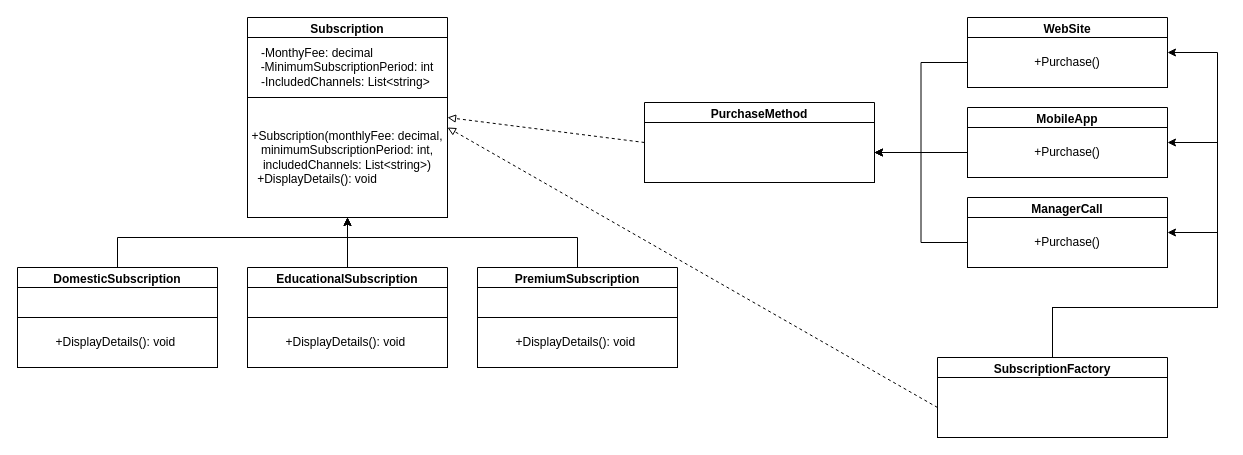
Some shapes in this 1243 by 455 pixel diagram are drawn without their labels. The shapes that lost their labels are listed below. From the top down, each one's centre as x and y in pixels, then its label:
the point at 759,152: +Purchase(subscription: Subscription): void
the point at 117,302: + DomesticSubscription()
the point at 347,302: +EducationalSubscription ()
the point at 577,302: +PremiumSubscription ()
the point at 1052,407: +CreateSubscription(string): Subscription
